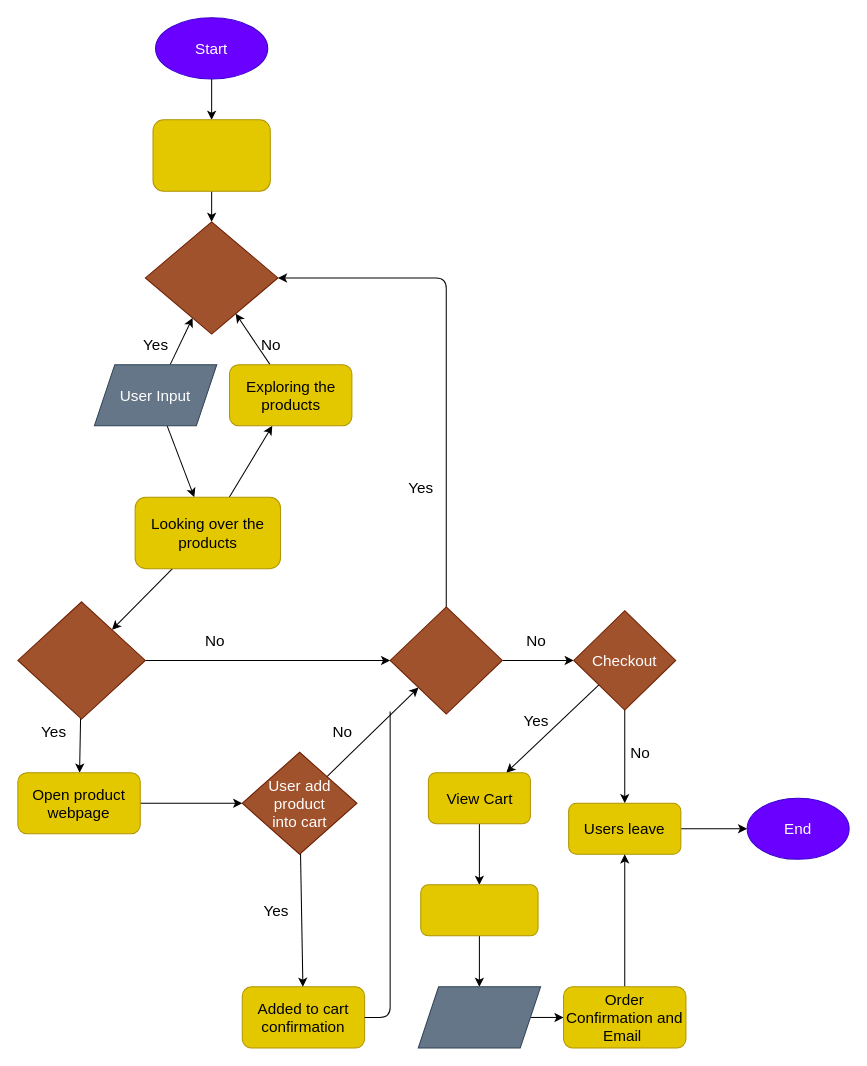
Image size: 867x1066. Some labels were removed from this diagram. Each missing label, with the centre of its shape:
Continue Shopping: [445,660]
Payment information: [479,1017]
Searching a product: [211,277]
Users Entering the Website: [211,155]
View Payment: [479,910]
Viewing a specific product: [81,660]
